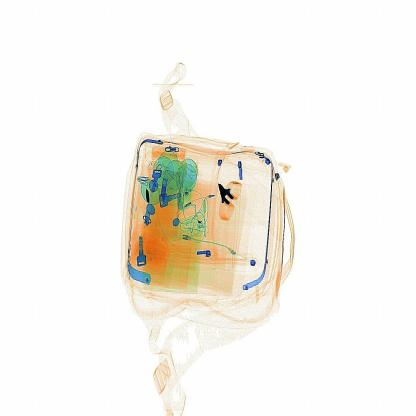gun: (214, 170, 249, 228)
